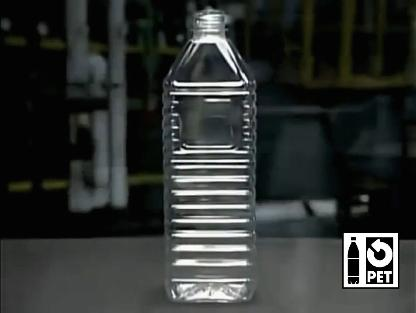Plastic Bottle: (162, 6, 258, 304)
